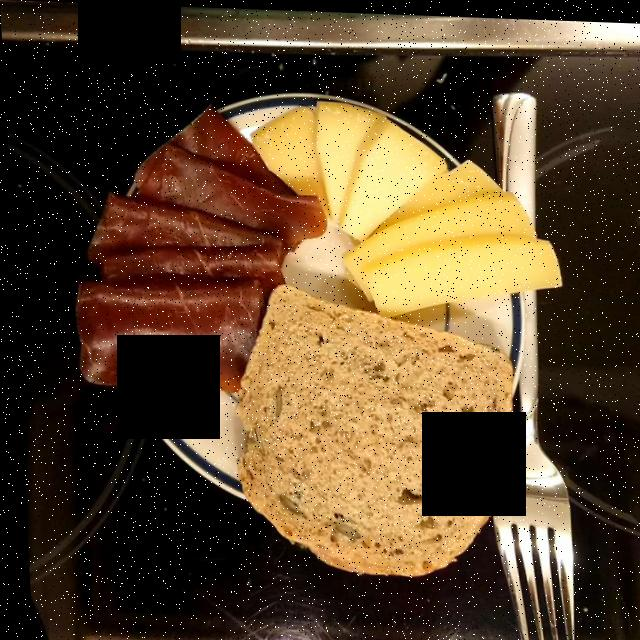bread-whole-wheat: (237, 293, 504, 571)
dried-meat: (79, 111, 303, 386)
semi-hard-cheese: (234, 104, 546, 301)
